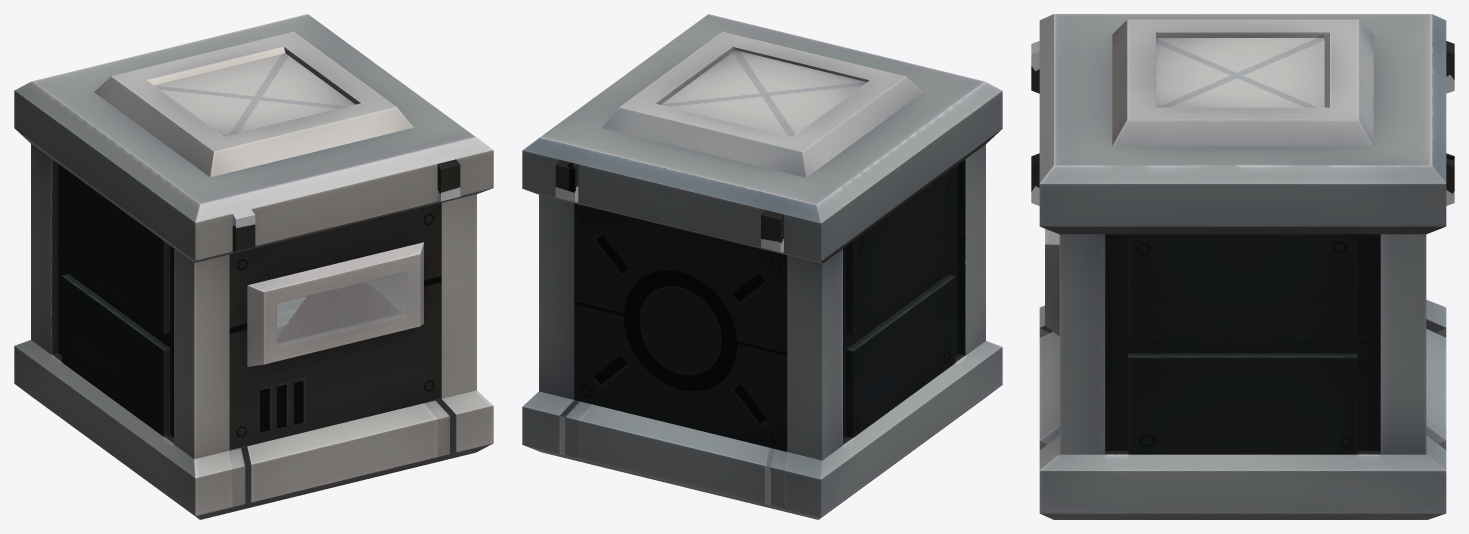
Rendered from SM_PushBox (1).fbx.
3 renders of one model, left to right at view 1: azimuth 30°, elevation 25°; view 2: azimuth 150°, elevation 25°; view 3: azimuth 270°, elevation 25°, orthographic. The views are drawn at different scales.
Visible parts, largest first — view 1: Cube; view 2: Cube; view 3: Cube.
Part boxes in pixels (box(x1,y1,x2,y2)): Cube: box(14, 14, 493, 519); Cube: box(522, 14, 1002, 519); Cube: box(1031, 14, 1454, 519).
Bounding box in the file's own units: 211 × 225 × 231.
Materials: 1 (1 with a texture image).
